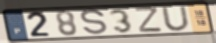2: (26, 10, 56, 39)
3: (109, 8, 134, 34)
8: (55, 10, 79, 37)
S: (80, 8, 109, 37)
U: (160, 5, 192, 32)
Z: (134, 6, 164, 33)
